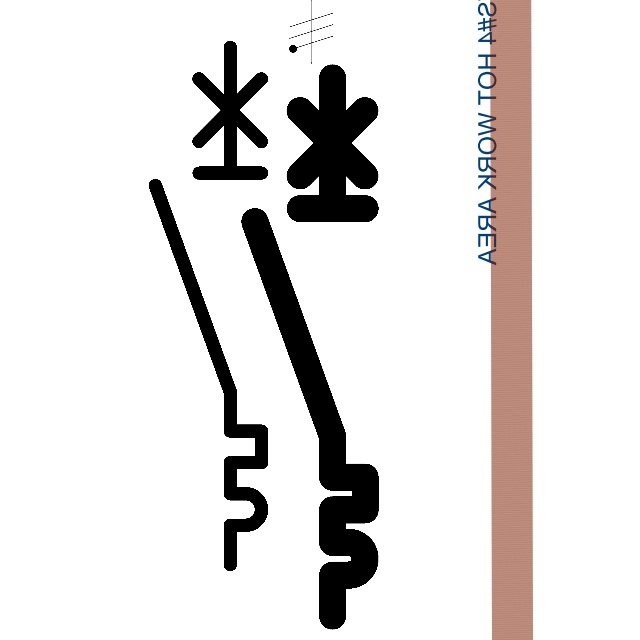interruptor_termomagnetico: (241, 64, 379, 630), (142, 34, 275, 578)
